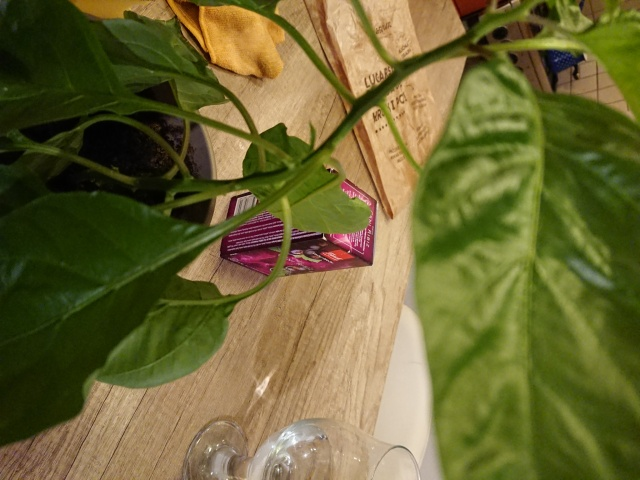Franck Black Currant Tea 60g: (217, 164, 380, 281)
